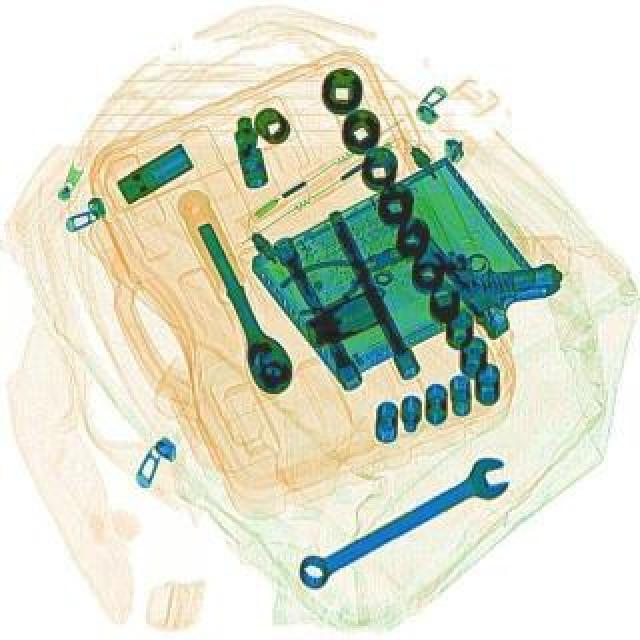gun: (410, 194, 570, 346)
scissors: (288, 452, 520, 602)
wrench: (272, 226, 424, 326)
